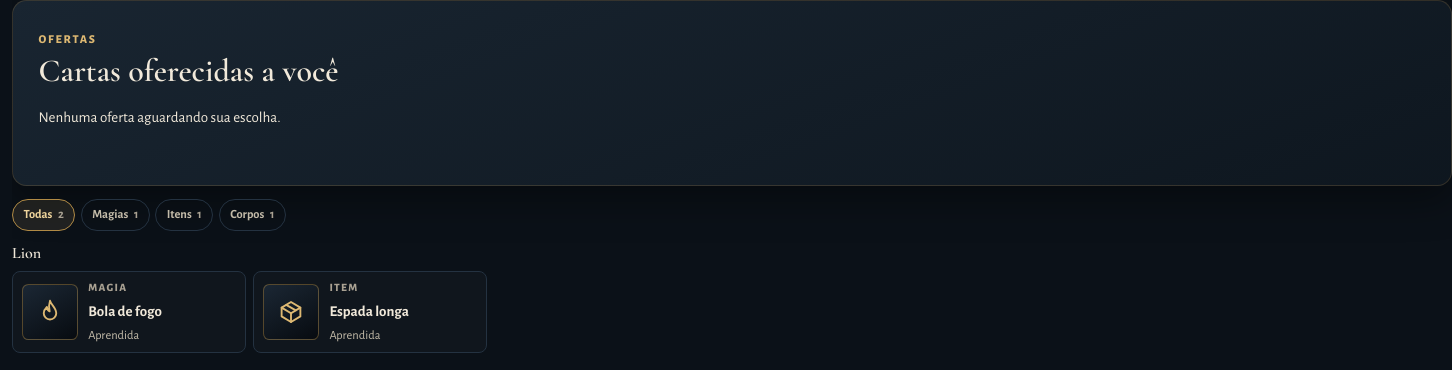
Scenario: aba Cartas do painel da Sala › o jogador filtra as cartas dos próprios personagens por tipo
The width and height of the screenshot is (1452, 370).
Expected: the text "Bola de fogo" is shown, [88,304,162,318]
Click the button "Itens 1".
click(184, 215)  # box [155,199,213,231]
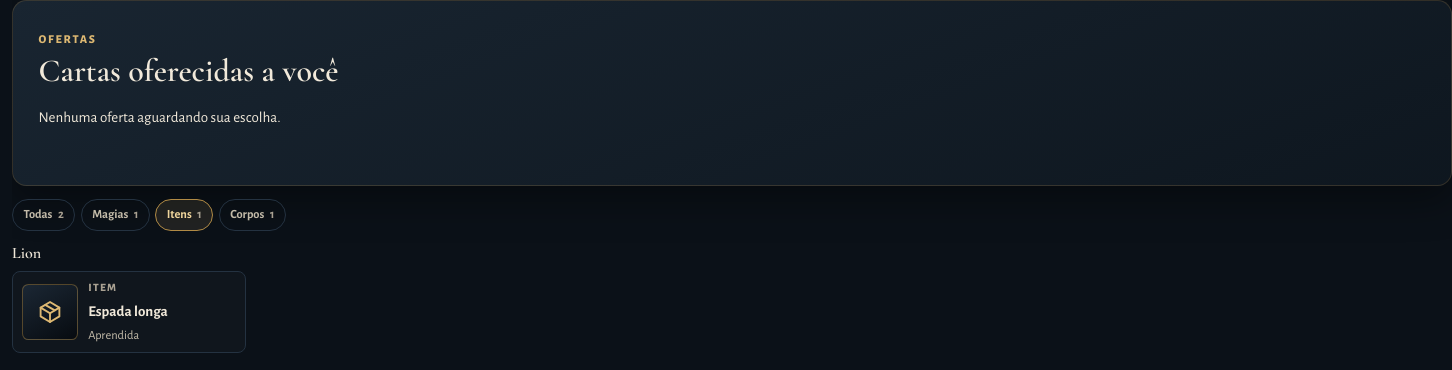
Expected: the text "Espada longa" is shown, [88,304,168,318]
Now the text "Bola de fogo" is gone
